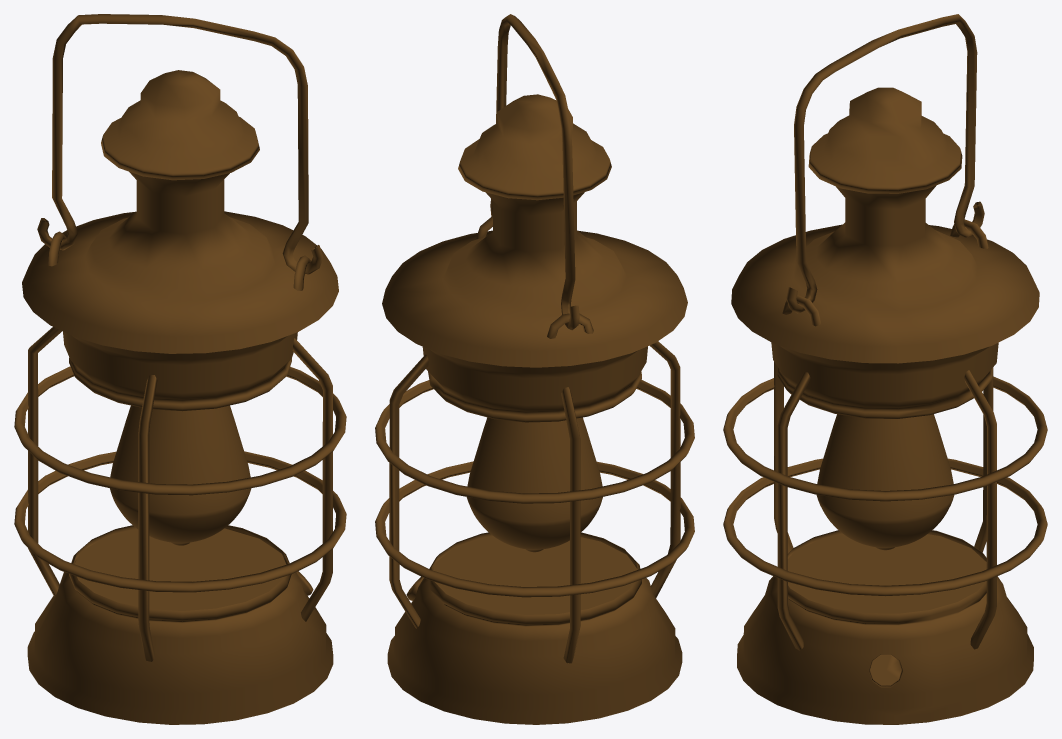
File: oil lamp texted.fbx
3 renders of one model, left to right at view 1: azimuth 30°, elevation 25°; view 2: azimuth 150°, elevation 25°; view 3: azimuth 270°, elevation 25°, orthographic. The views are drawn at different scales.
Visible parts, largest first — view 1: Lantern, pSphere2; view 2: Lantern, pSphere2; view 3: Lantern, pSphere2.
Boxes of the visible parts, x1,y1,x2,y2 form: Lantern: (14, 14, 346, 724); pSphere2: (110, 405, 251, 545); Lantern: (375, 14, 694, 724); pSphere2: (466, 417, 602, 552); Lantern: (723, 14, 1047, 724); pSphere2: (816, 414, 954, 550).
Bounding box in the file's own units: 7 × 15 × 7.
